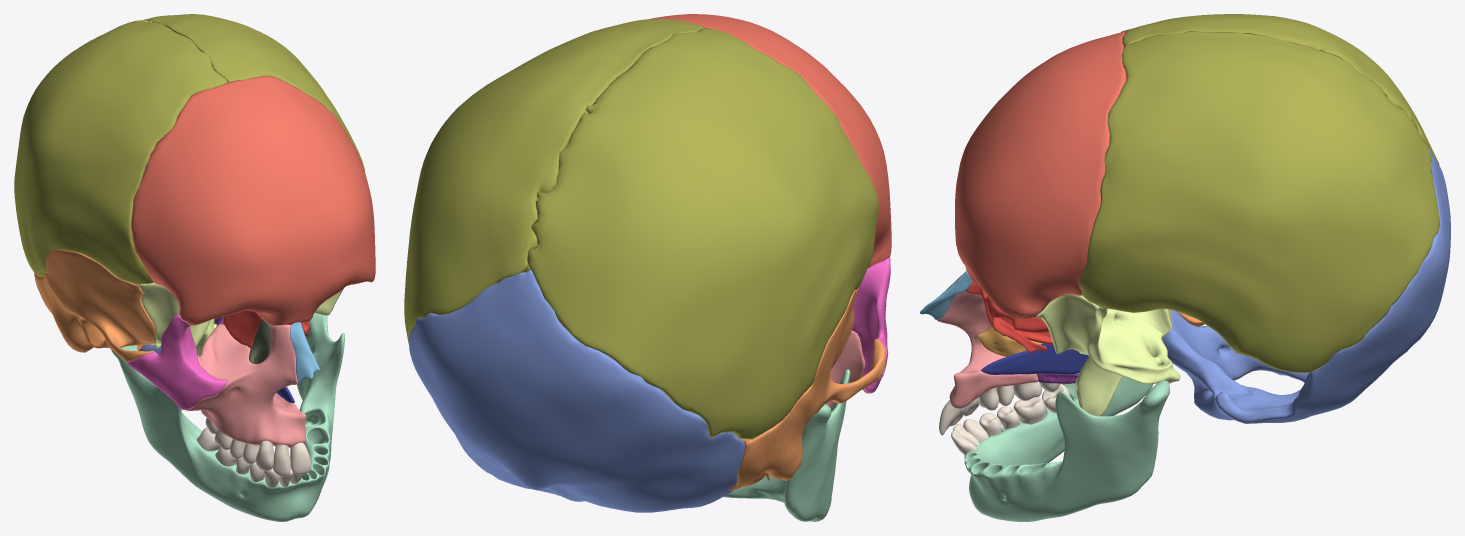
Rendered from open3dmodel-overview-colored-skull.glb.
The picture shows the model from 3 angles, left to right: view 1: azimuth 30°, elevation 25°; view 2: azimuth 150°, elevation 25°; view 3: azimuth 270°, elevation 25°; orthographic projection. The views are drawn at different scales.
Visible parts, largest first — view 1: Frontal bone, Parietal bone.r, Mandible bone, Maxilla bone.r, Temporal bone.r, Parietal bone.l, Zygomatic bone.r, Sphenoid bone, Ethmoid Bone, Nasal bone.r, Lacrimal bone.r, Upper medial incisor.r (+2 smaller); view 2: Parietal bone.r, Occipital bone, Parietal bone.l, Frontal bone, Temporal bone.r, Mandible bone, Zygomatic bone.r, Maxilla bone.r; view 3: Parietal bone.l, Frontal bone, Mandible bone, Occipital bone, Sphenoid bone, Parietal bone.r, Maxilla bone.r, Vomer, Ethmoid Bone, Nasal bone.r, Inferior nasal concha bone.r, Lower first molar tooth.r.
Part boxes in pixels (bbox=[...]): Frontal bone: bbox=[131, 76, 375, 325]; Parietal bone.r: bbox=[14, 20, 227, 284]; Mandible bone: bbox=[111, 313, 344, 521]; Maxilla bone.r: bbox=[185, 324, 306, 447]; Temporal bone.r: bbox=[34, 249, 156, 362]; Parietal bone.l: bbox=[143, 14, 365, 172]; Zygomatic bone.r: bbox=[128, 313, 227, 409]; Sphenoid bone: bbox=[139, 282, 343, 356]; Ethmoid Bone: bbox=[223, 310, 309, 348]; Nasal bone.r: bbox=[290, 322, 319, 383]; Lacrimal bone.r: bbox=[249, 319, 270, 363]; Upper medial incisor.r: bbox=[290, 442, 311, 474]; Parietal bone.r: bbox=[527, 28, 878, 439]; Occipital bone: bbox=[408, 269, 744, 512]; Parietal bone.l: bbox=[404, 19, 703, 343]; Frontal bone: bbox=[649, 14, 891, 267]; Temporal bone.r: bbox=[728, 287, 886, 491]; Mandible bone: bbox=[723, 369, 850, 521]; Zygomatic bone.r: bbox=[852, 258, 890, 393]; Maxilla bone.r: bbox=[826, 330, 868, 409]; Parietal bone.l: bbox=[1078, 31, 1439, 372]; Frontal bone: bbox=[955, 31, 1126, 318]; Mandible bone: bbox=[964, 373, 1169, 521]; Occipital bone: bbox=[1162, 147, 1450, 423]; Sphenoid bone: bbox=[1036, 294, 1180, 415]; Parietal bone.r: bbox=[1121, 14, 1439, 165]; Maxilla bone.r: bbox=[937, 284, 1038, 408]; Vomer: bbox=[981, 343, 1088, 374]; Ethmoid Bone: bbox=[966, 283, 1076, 352]; Nasal bone.r: bbox=[920, 270, 972, 319]; Inferior nasal concha bone.r: bbox=[977, 326, 1042, 356]; Lower first molar tooth.r: bbox=[1013, 396, 1046, 424].
Size of the model in its own units: 0.1485 by 0.2013 by 0.2038.
